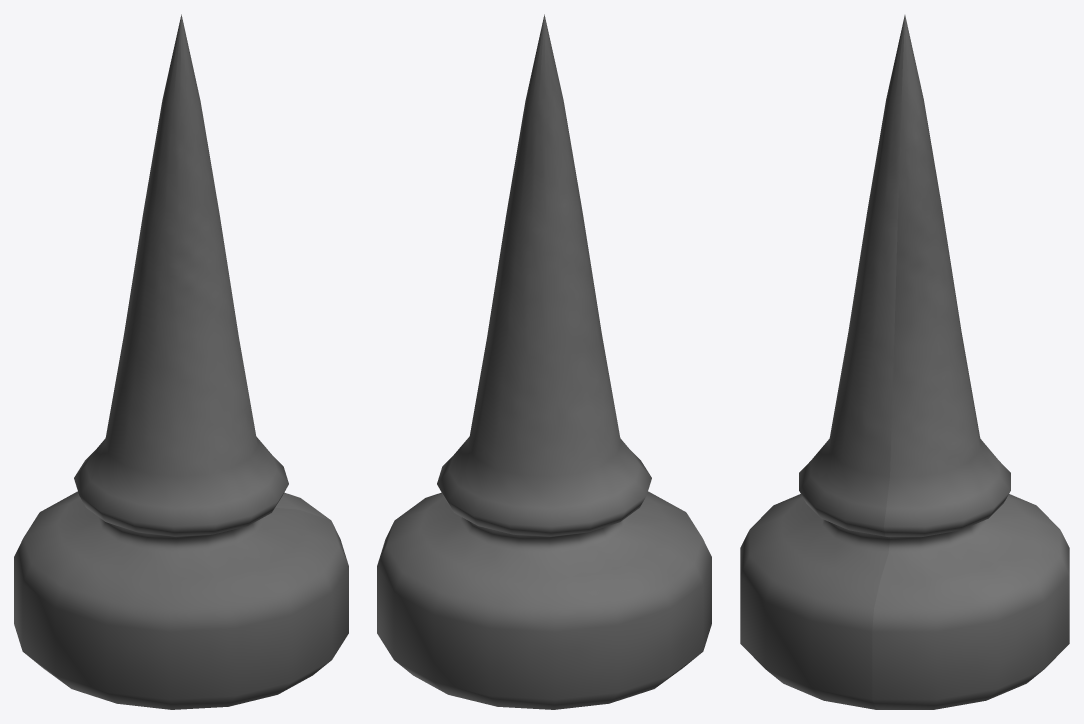
File: polefinial_spire.obj
The picture shows the model from 3 angles, left to right: view 1: azimuth 30°, elevation 25°; view 2: azimuth 150°, elevation 25°; view 3: azimuth 270°, elevation 25°; orthographic projection.
Visible parts, largest first — view 1: polefinial_spire; view 2: polefinial_spire; view 3: polefinial_spire.
Boxes of the visible parts, box(x1,y1,x2,y2) form: polefinial_spire: box(14, 14, 348, 709); polefinial_spire: box(377, 14, 711, 709); polefinial_spire: box(740, 15, 1069, 709).
Size of the model in its own units: 0.4291 by 0.9125 by 0.4291.
